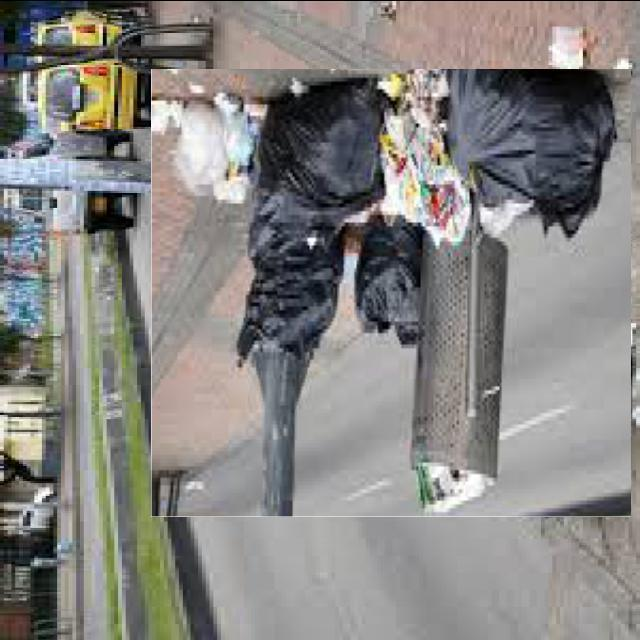Trashbag: (443, 63, 618, 236), (249, 76, 391, 228), (226, 211, 350, 375), (354, 214, 436, 350)
